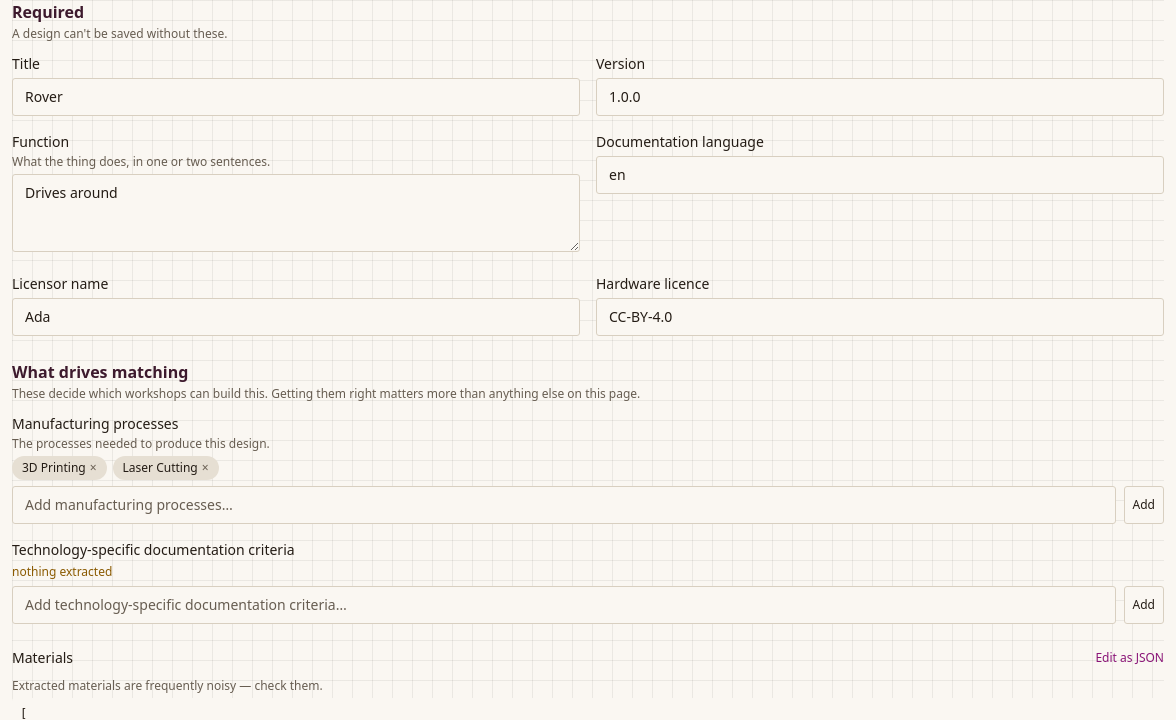
Test: TieredEditor › shows nested structures read-only until JSON editing is opened
The width and height of the screenshot is (1176, 720).
Click the button "Edit as JSON" at [1130, 658], box [1095, 640, 1164, 676]
(page scrolled)
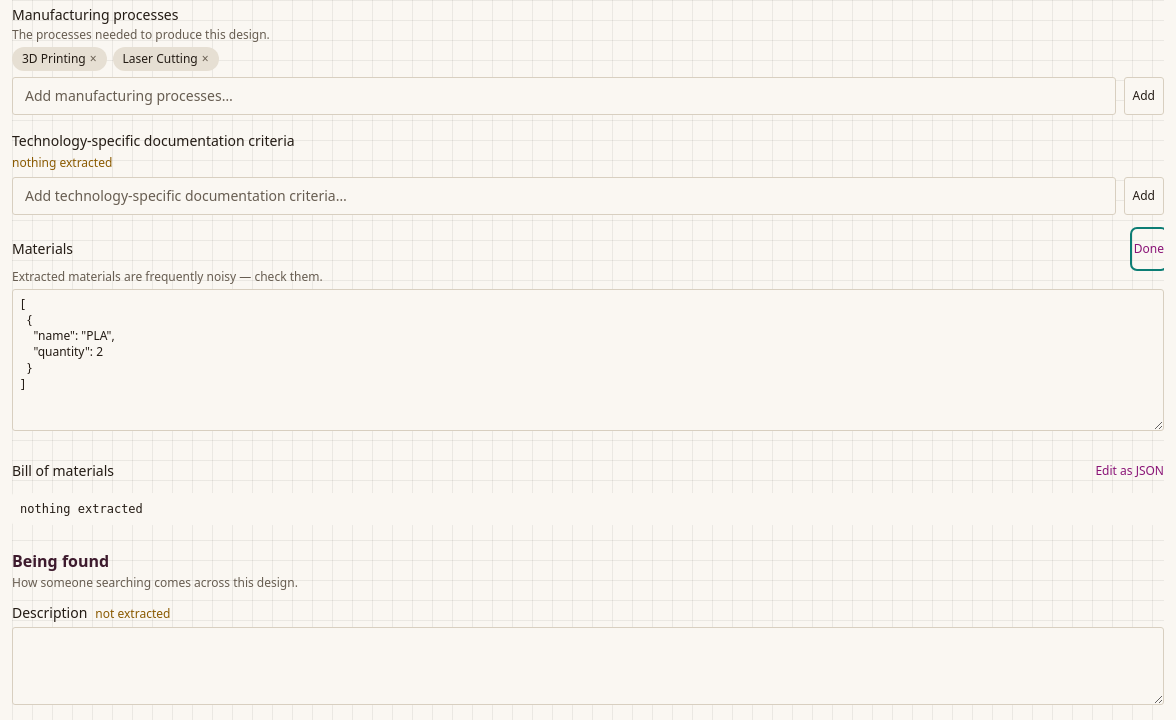
Now the text box named "Materials JSON" is shown, box [12, 289, 1164, 431]
